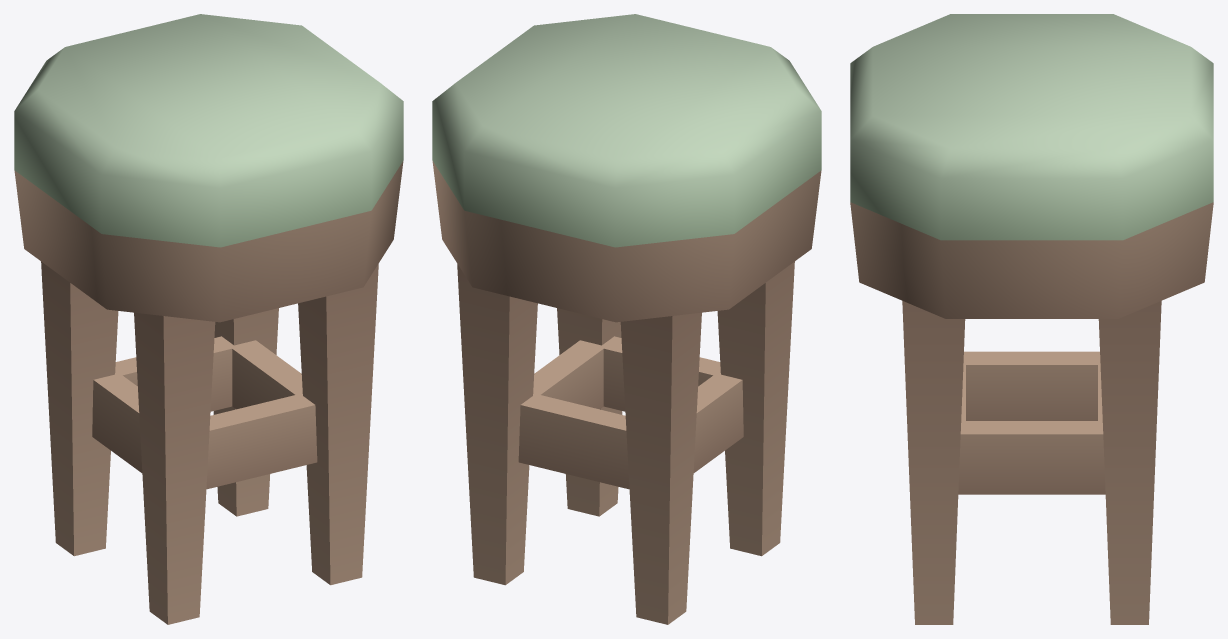
File: bar-stool-basic-base.glb
The picture shows the model from 3 angles, left to right: view 1: azimuth 30°, elevation 25°; view 2: azimuth 150°, elevation 25°; view 3: azimuth 270°, elevation 25°; orthographic projection. The views are drawn at different scales.
Visible parts, largest first — view 1: bar-stool-basic-base; view 2: bar-stool-basic-base; view 3: bar-stool-basic-base.
Boxes of the visible parts, box(x1,y1,x2,y2) form: bar-stool-basic-base: box(14, 14, 403, 624); bar-stool-basic-base: box(432, 14, 821, 624); bar-stool-basic-base: box(850, 14, 1213, 624).
Bounding box in the file's own units: 0.4 × 0.6 × 0.4.
